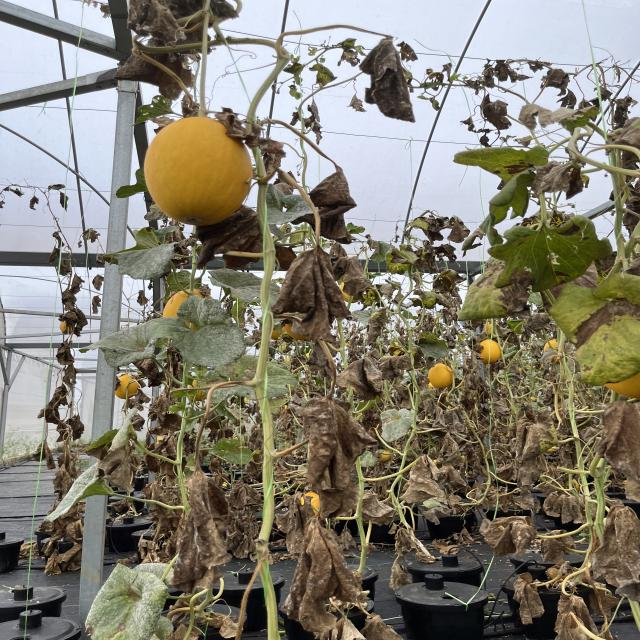alternaria leaf blight: (562, 274, 640, 386)
bacterial wilt: (272, 520, 356, 626), (166, 473, 244, 572), (290, 398, 370, 487), (501, 219, 604, 287), (354, 34, 424, 126), (272, 242, 344, 323), (302, 163, 363, 244), (115, 47, 208, 96), (590, 393, 640, 477), (194, 211, 268, 267), (394, 456, 460, 514), (116, 0, 188, 48), (597, 503, 640, 581), (522, 102, 608, 140), (226, 482, 265, 560), (475, 514, 549, 553), (544, 596, 608, 640), (463, 275, 526, 312), (520, 531, 587, 565), (42, 528, 90, 575), (516, 418, 560, 461), (509, 578, 543, 632), (536, 486, 584, 520), (536, 163, 586, 195), (214, 114, 272, 139), (346, 356, 381, 396), (59, 272, 92, 312), (39, 389, 75, 425), (207, 601, 240, 640), (345, 257, 371, 306), (59, 407, 92, 445), (364, 308, 396, 345), (61, 356, 89, 395), (306, 342, 340, 373), (446, 212, 480, 240), (515, 389, 545, 418), (48, 462, 73, 496), (541, 67, 576, 91), (380, 354, 418, 376), (60, 306, 86, 336), (486, 95, 508, 128), (389, 246, 411, 273), (610, 95, 630, 124), (435, 240, 460, 262), (422, 214, 440, 242), (485, 394, 502, 423), (493, 63, 522, 79), (467, 372, 485, 395), (445, 289, 470, 305), (78, 229, 103, 243), (374, 280, 392, 299), (434, 274, 451, 291), (89, 295, 103, 314), (421, 244, 434, 263), (46, 249, 64, 261), (451, 268, 466, 282), (92, 275, 102, 292), (55, 232, 67, 244), (422, 292, 436, 302)
powdery mildew: (78, 571, 178, 640), (98, 321, 177, 371), (107, 229, 176, 282), (177, 324, 254, 369), (215, 268, 271, 306), (261, 189, 310, 228), (182, 298, 231, 320)
